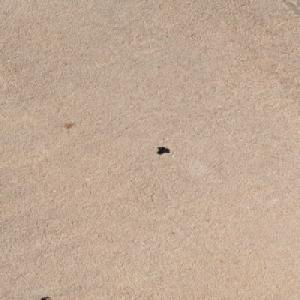BoltWasher: (155, 146, 166, 153)
